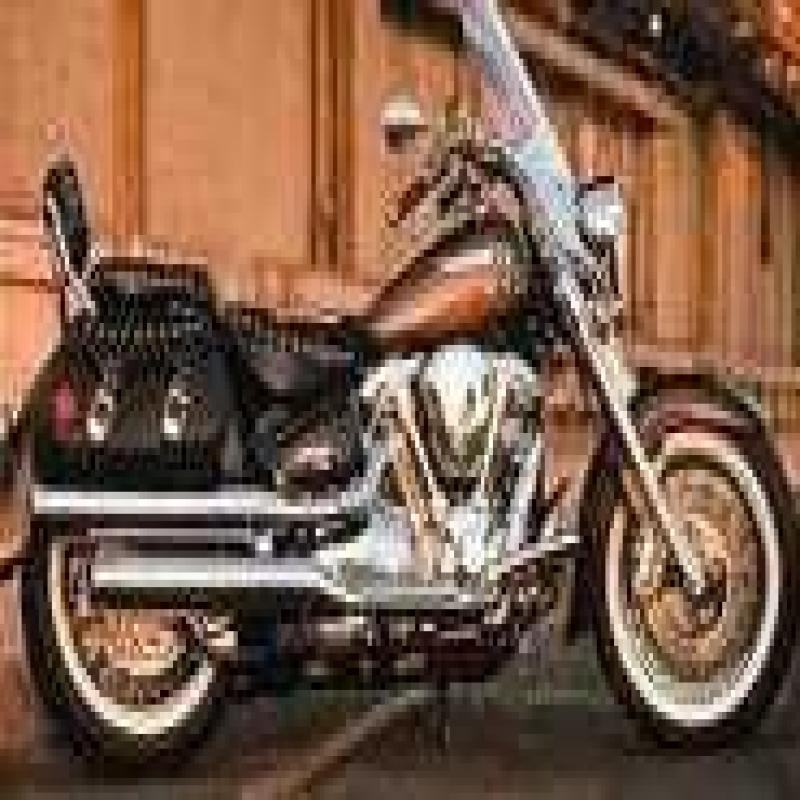bike: (12, 10, 800, 786)
